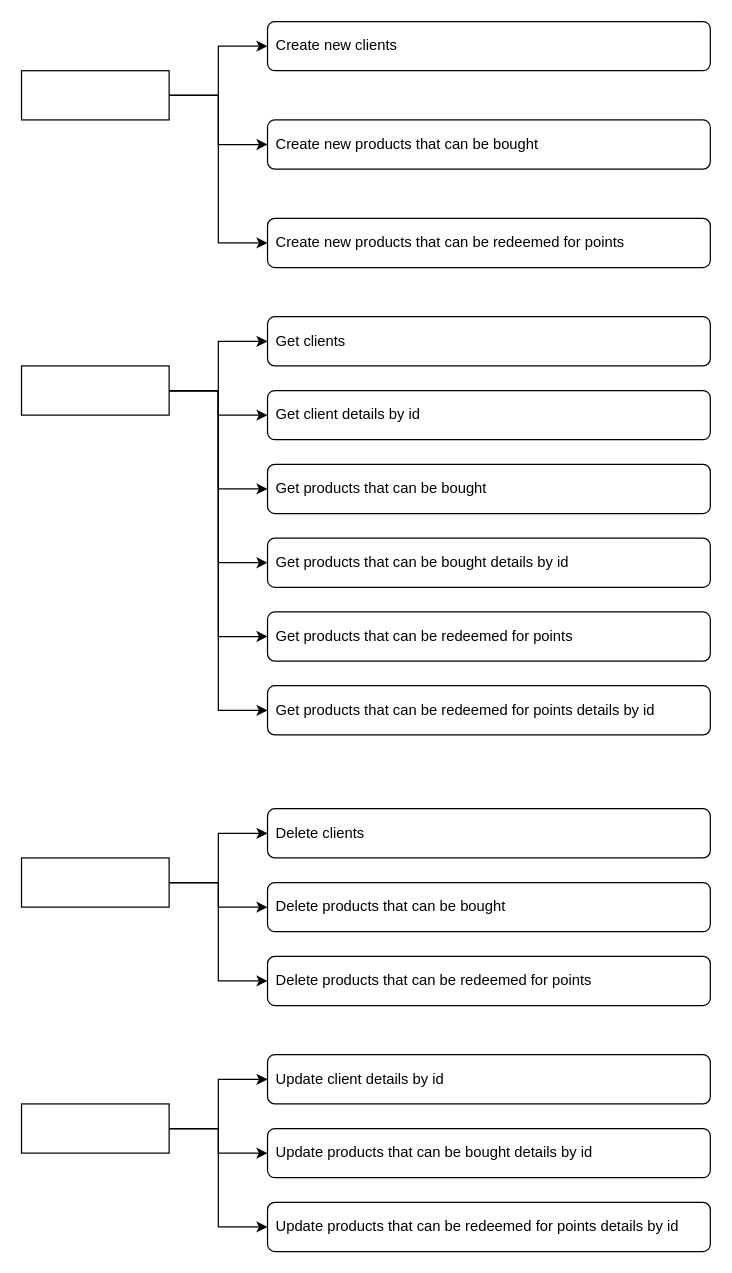
This 732x1273 diagram has some shape labels left out. Here are the shapes that lost their labels. From the top down, the centre of each, then its label:
At (x=94, y=94): "POST".
At (x=94, y=390): "GET".
At (x=94, y=882): "DELETE".
At (x=94, y=1128): "PUT".
